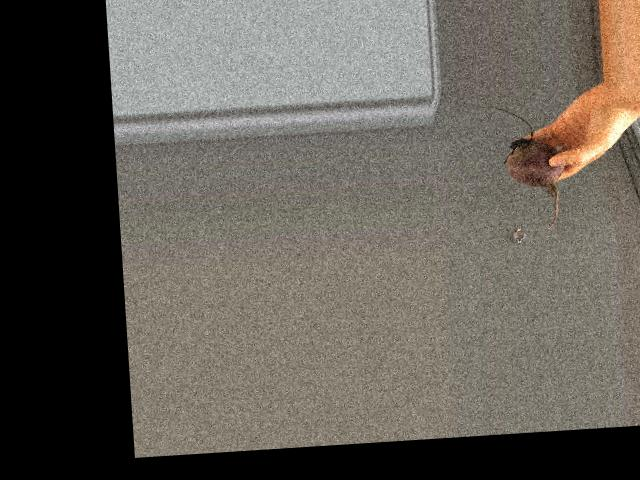beet: (480, 101, 568, 235)
